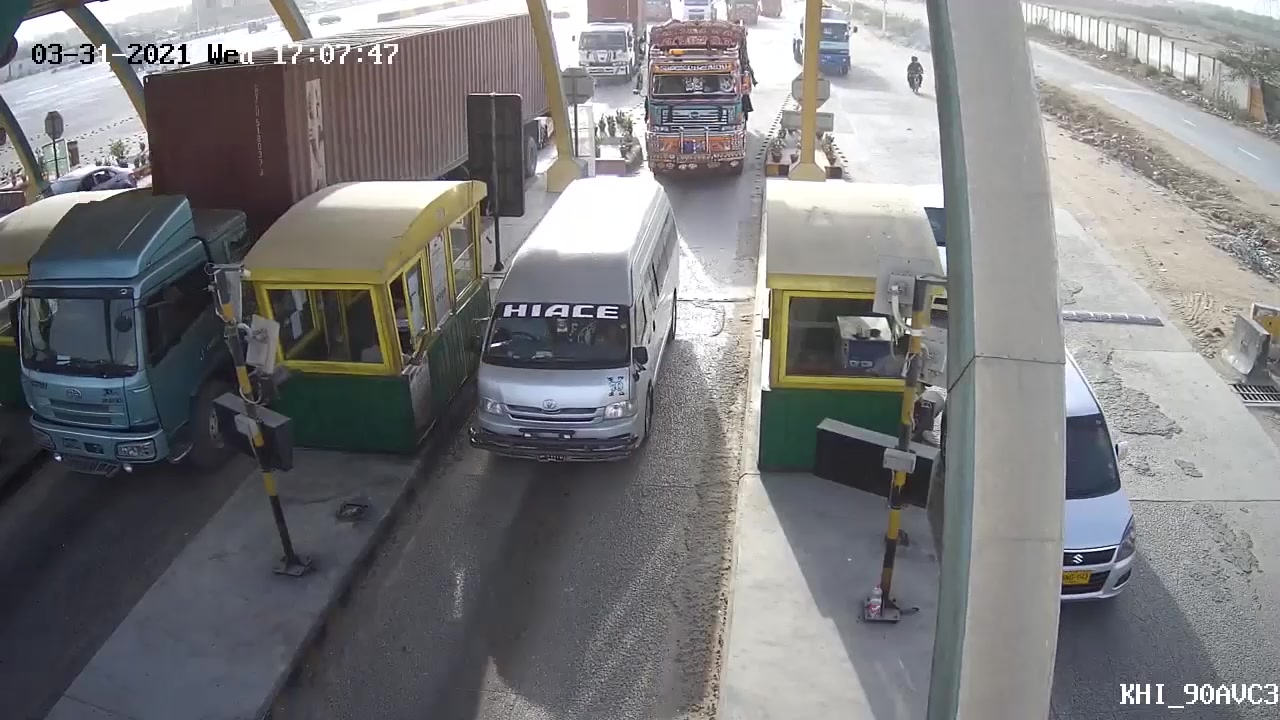F3: (438, 172, 681, 483)
